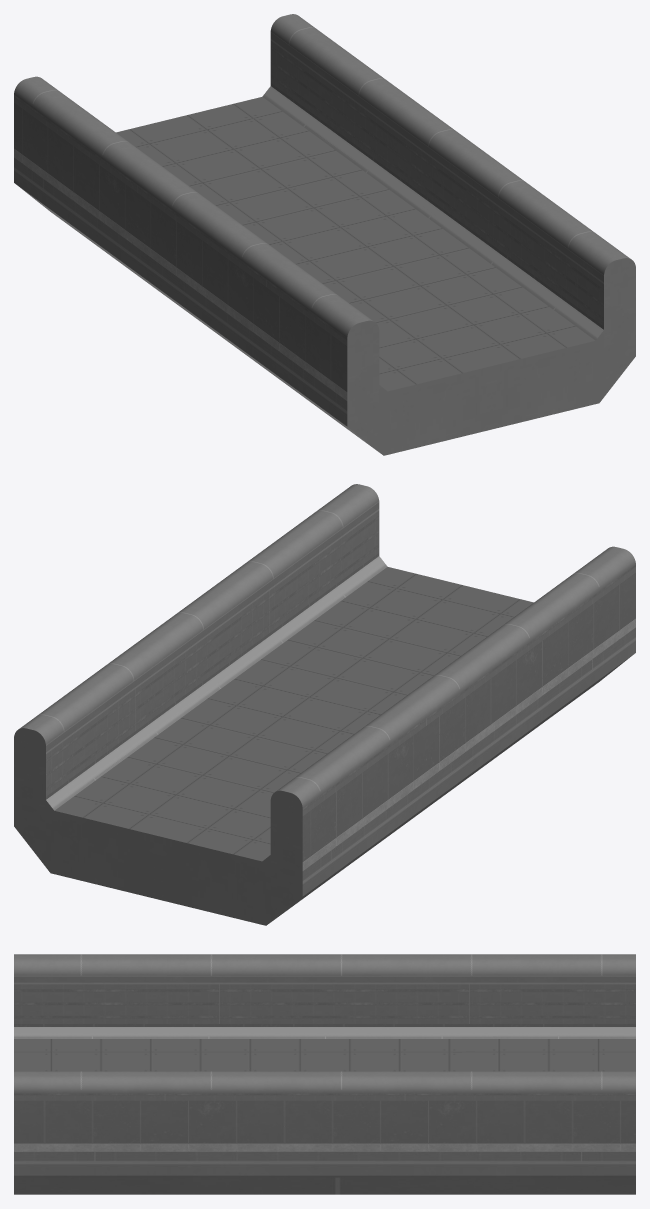
The model's file is SM_bridge_module.glb.
3 renders of one model, top to bottom at view 1: azimuth 30°, elevation 25°; view 2: azimuth 150°, elevation 25°; view 3: azimuth 270°, elevation 25°, orthographic. The views are drawn at different scales.
Parts seen in each view (by area): view 1: SM_bridge_module; view 2: SM_bridge_module; view 3: SM_bridge_module.
Part boxes in pixels (<box>): SM_bridge_module: <box>14,14,635,455</box>; SM_bridge_module: <box>14,484,635,925</box>; SM_bridge_module: <box>14,954,635,1194</box>.
Size of the model in its own units: 5 by 2.3 by 10.
2 materials, 2 textured.
